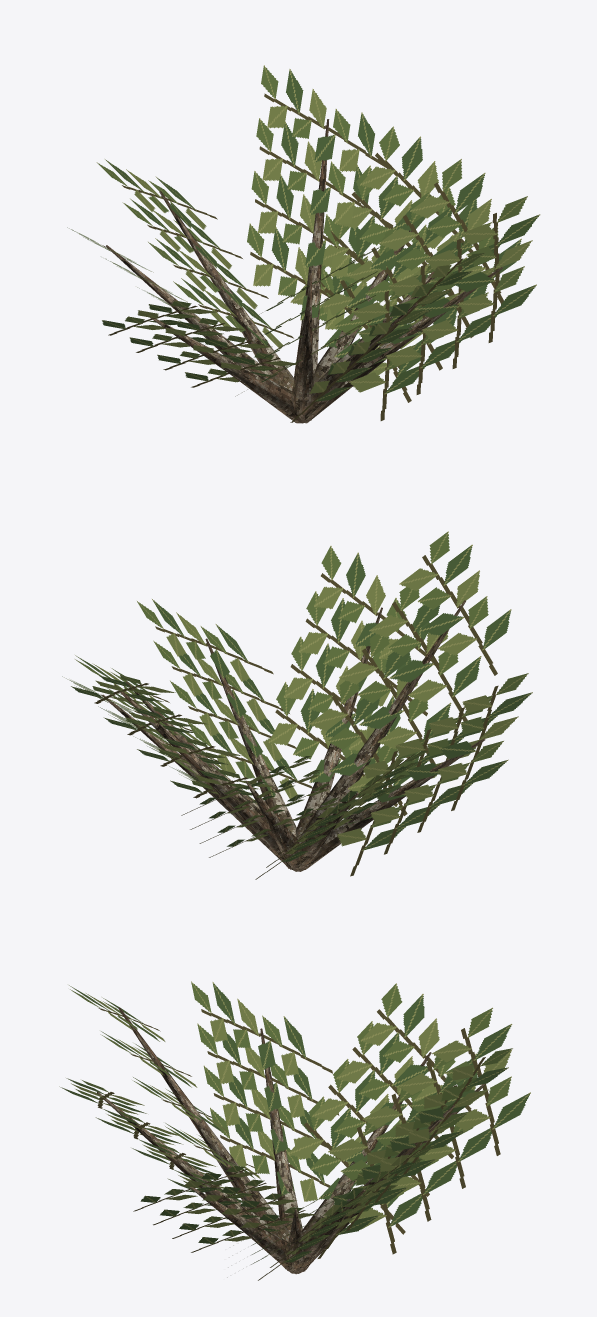
Rendered from shrub.glb.
3 renders of one model, top to bottom at view 1: azimuth 30°, elevation 25°; view 2: azimuth 150°, elevation 25°; view 3: azimuth 270°, elevation 25°, orthographic.
Parts seen in each view (by area): view 1: BrambleLeaves, BrambleWood; view 2: BrambleLeaves, BrambleWood; view 3: BrambleLeaves, BrambleWood.
Boxes of the visible parts, x1,y1,x2,y2 form: BrambleLeaves: (67, 65, 540, 422); BrambleWood: (105, 119, 502, 423); BrambleLeaves: (62, 531, 532, 879); BrambleWood: (103, 600, 485, 871); BrambleLeaves: (59, 981, 530, 1280); BrambleWood: (97, 1007, 485, 1274).
Bounding box in the file's own units: 1.72 × 1 × 1.71.
2 materials, 2 textured.
